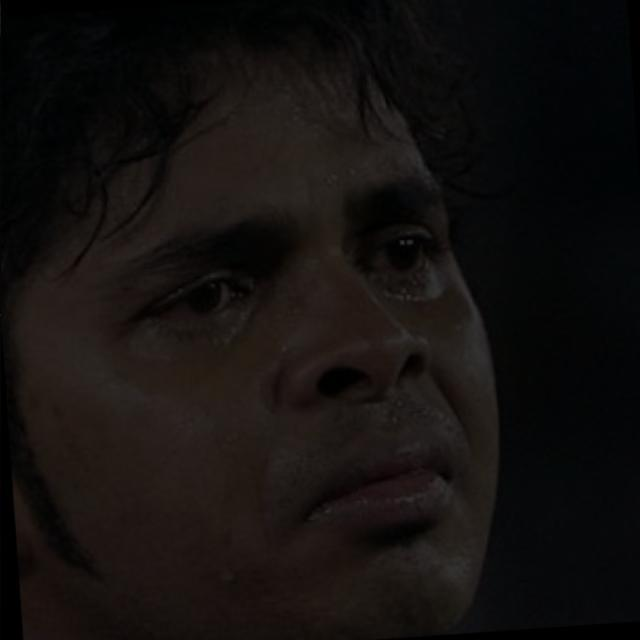Sad: (72, 79, 521, 621)
